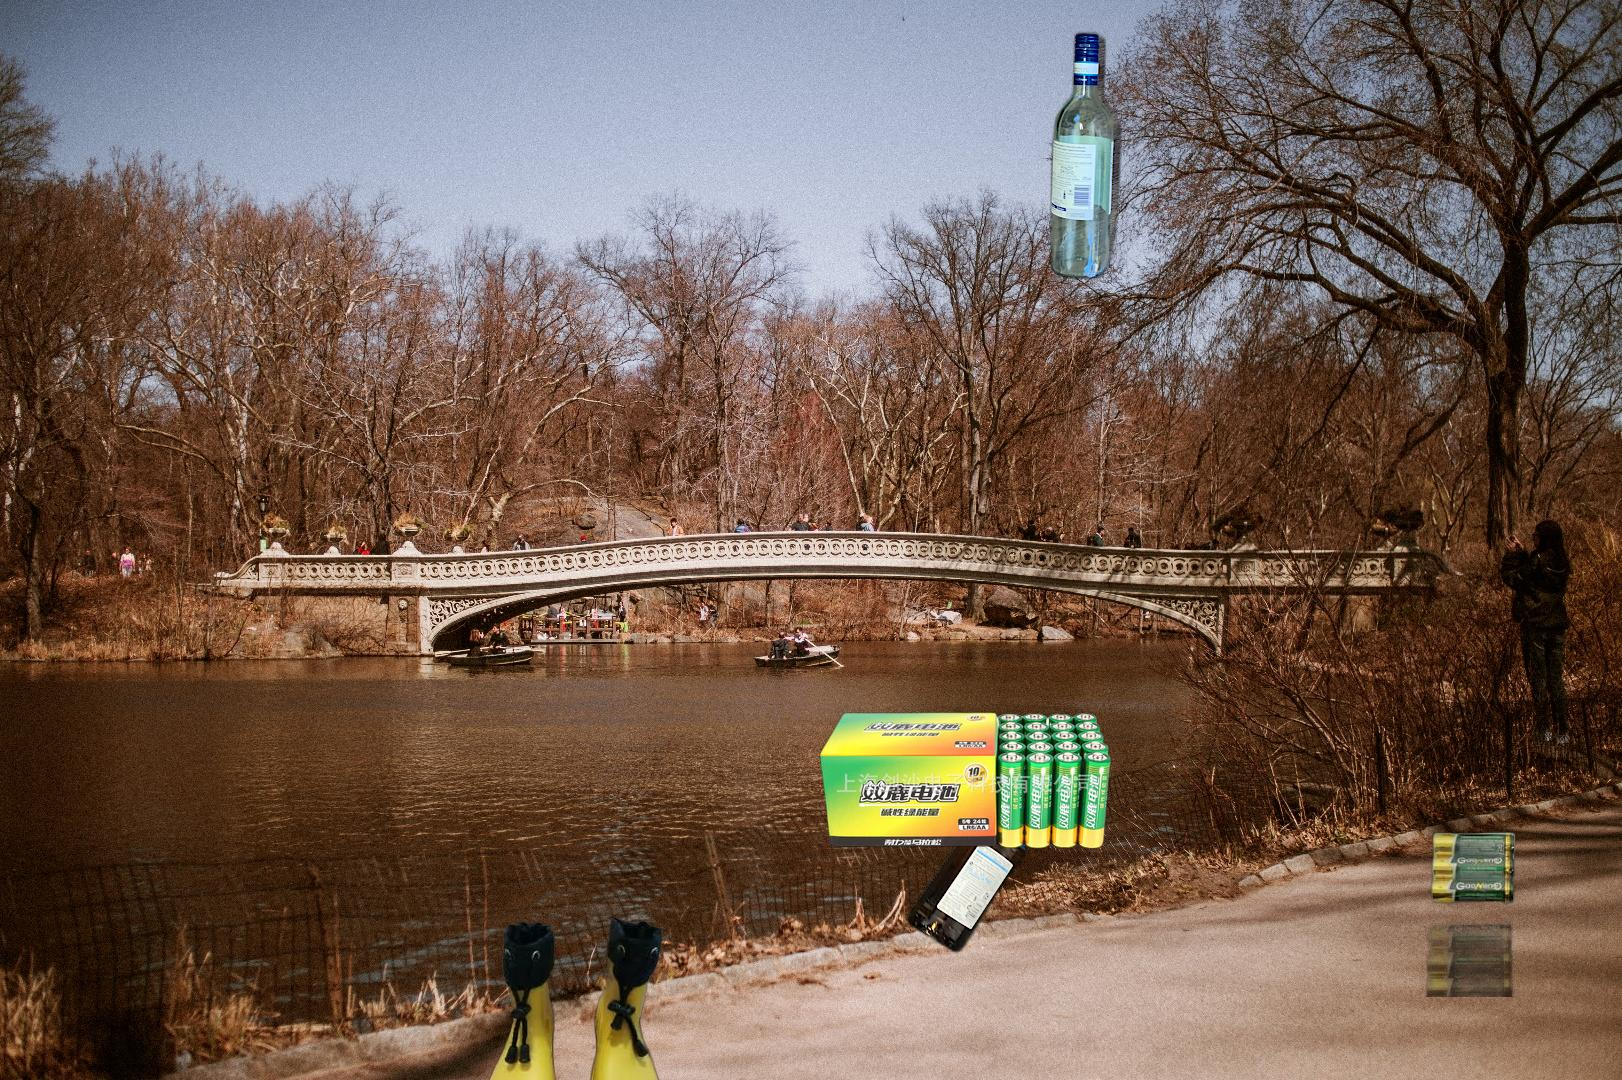battery: (818, 710, 1114, 851), (1394, 777, 1521, 997)
glass: (903, 759, 1058, 958), (1046, 26, 1125, 285)
plastic-bag: (888, 1068, 1092, 1080)
shoes: (480, 914, 666, 1080)
